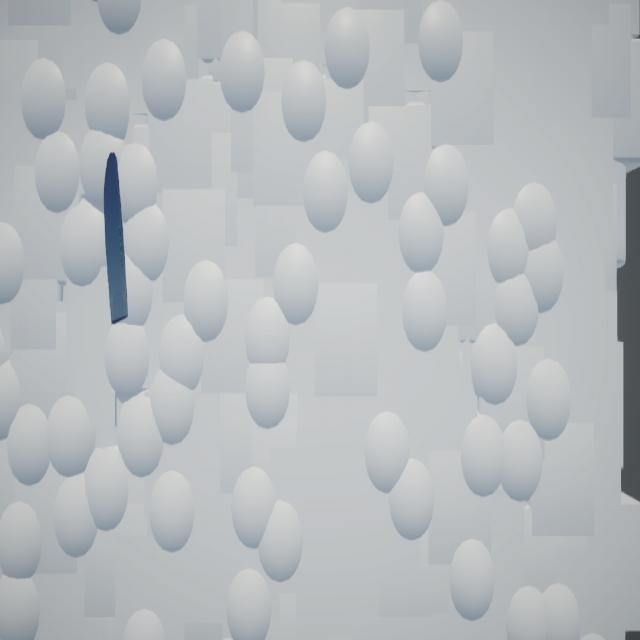top_knife: (104, 153, 129, 326)
